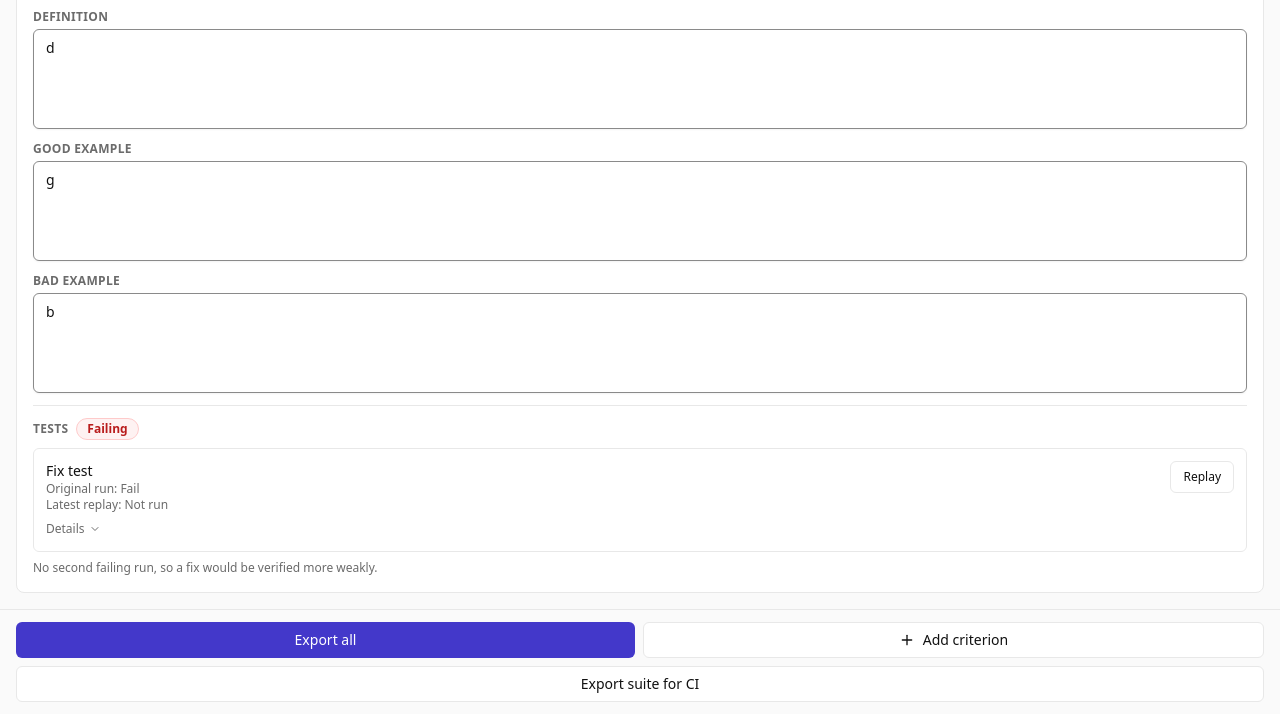
EvalCriteriaPanel export for CI › shows the server's message in an alert on failure, re-enables, and clears it on the next try
(page scrolled)
Click the button "Export suite for CI".
click(640, 684)  # box [16,666,1264,702]
(page scrolled)
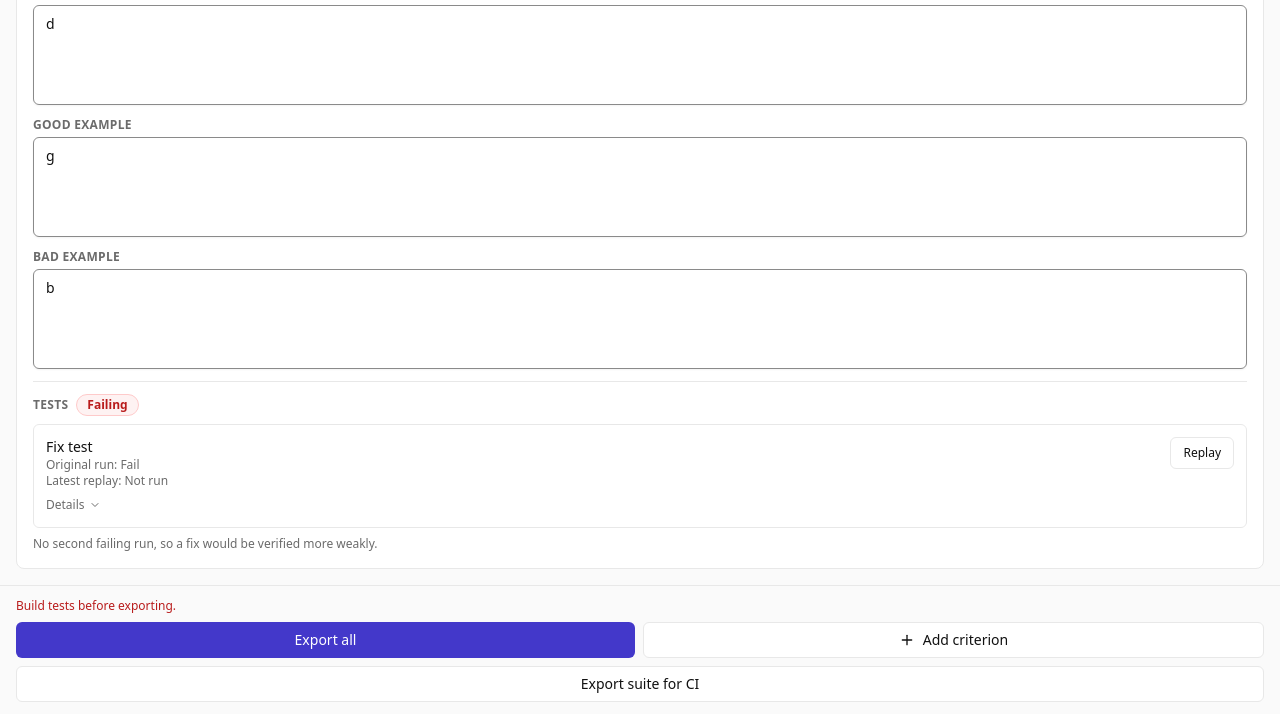
Check: the message "Build tests before exporting." is shown, box [16,597,176,614]
Click the button "Export suite for CI".
click(640, 684)  # box [16,666,1264,702]
(page scrolled)
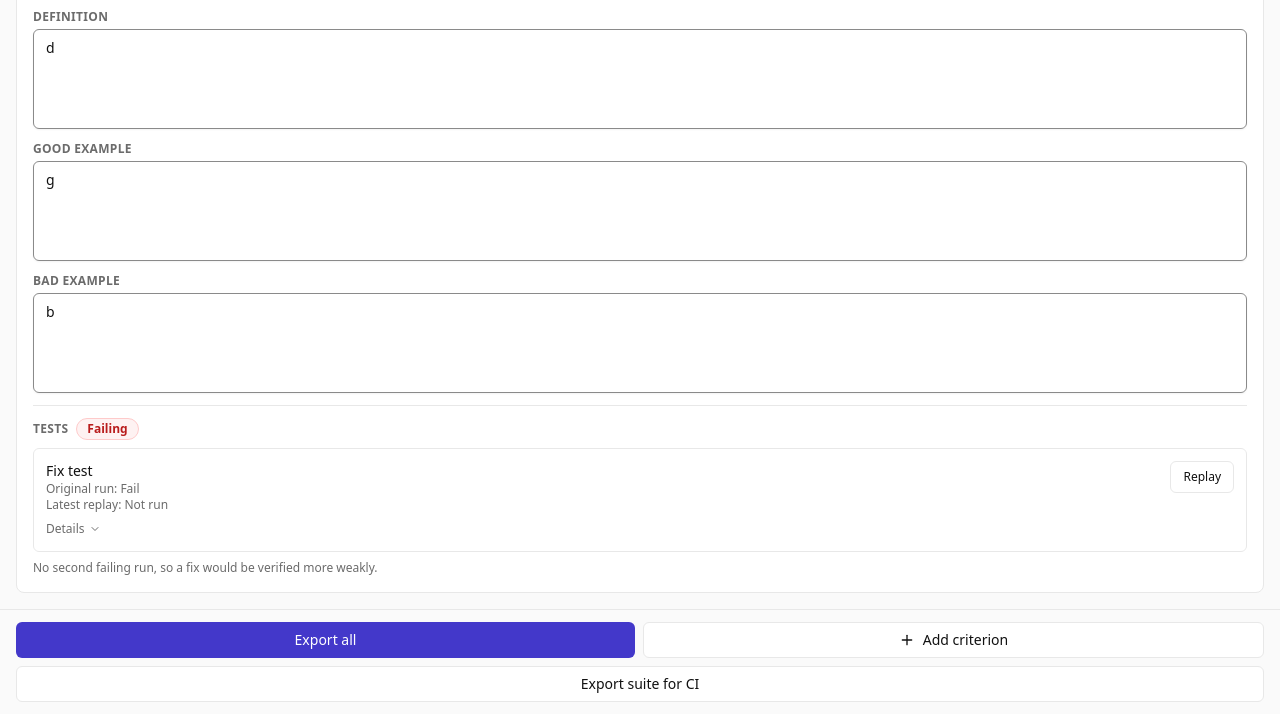
Check: the message "Build tests before exporting." is gone
